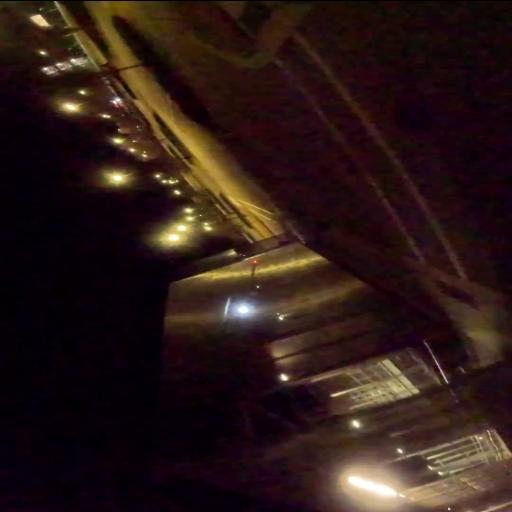uav: (219, 258, 265, 328)
